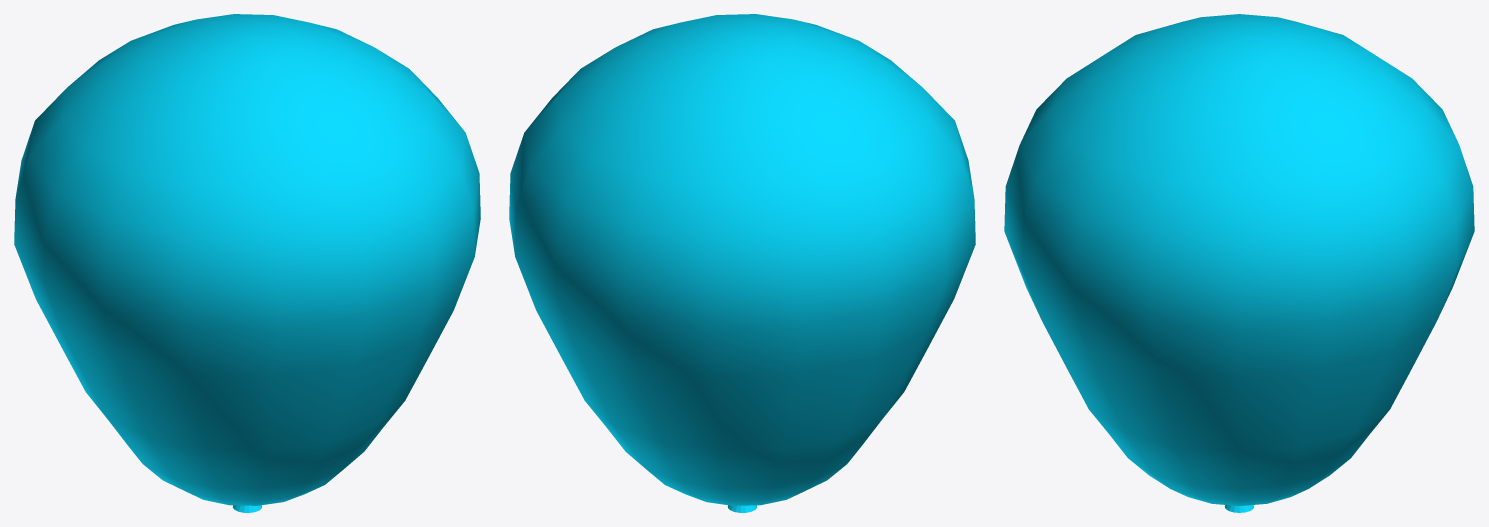
Rendered from Mizuhuusen.fbx.
The picture shows the model from 3 angles, left to right: view 1: azimuth 30°, elevation 25°; view 2: azimuth 150°, elevation 25°; view 3: azimuth 270°, elevation 25°; orthographic projection.
Parts seen in each view (by area): view 1: polySurface1; view 2: polySurface1; view 3: polySurface1.
Part boxes in pixels (x1,y1,x2,y2): polySurface1: [14, 14, 480, 512]; polySurface1: [509, 14, 975, 512]; polySurface1: [1004, 14, 1474, 512].
Bounding box in the file's own units: 88.93 × 97.96 × 88.93.
1 material, 1 textured.
